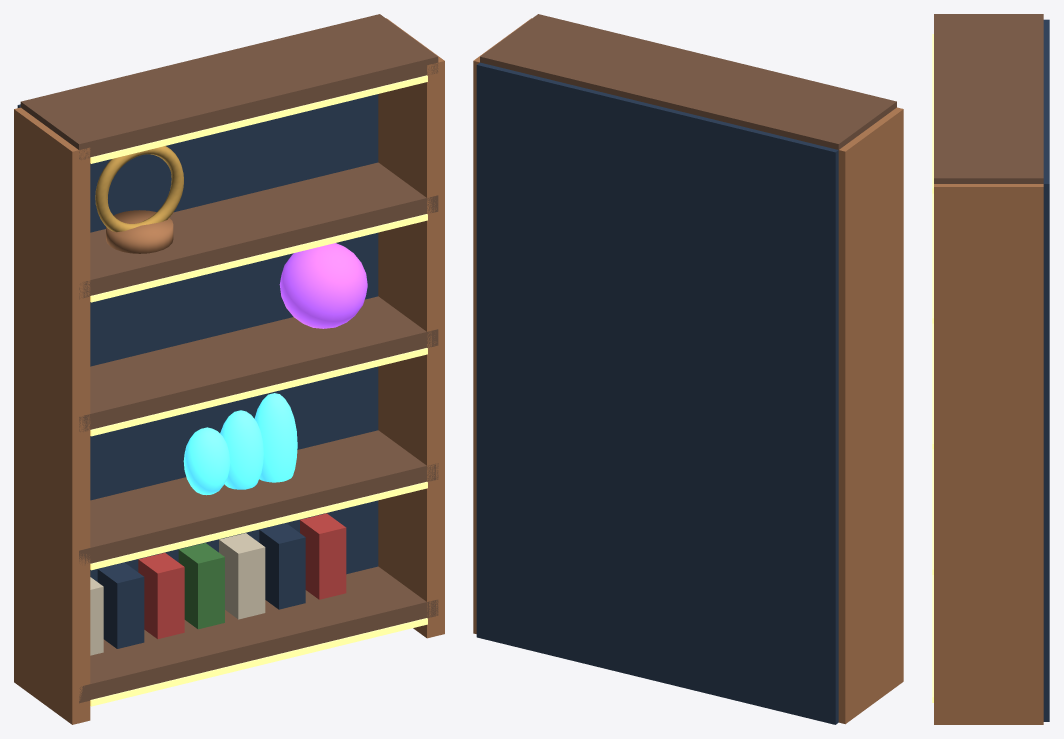
File: display_case.glb
3 views of the same model, side by side, from view 1: azimuth 30°, elevation 25°; view 2: azimuth 150°, elevation 25°; view 3: azimuth 270°, elevation 25° (orthographic). The views are drawn at different scales.
Visible parts, largest first — view 1: root_wood, root_copper, root_navy, root_warm, root_blue, root_red, root_purple, root_cream, root_green, root_gold; view 2: root_navy, root_copper, root_wood; view 3: root_copper, root_wood, root_navy, root_warm.
Part boxes in pixels (bbox=[...]): root_wood: bbox=[20, 14, 438, 703]; root_copper: bbox=[14, 18, 444, 724]; root_navy: bbox=[17, 94, 378, 648]; root_warm: bbox=[90, 75, 427, 706]; root_blue: bbox=[183, 393, 297, 495]; root_red: bbox=[138, 513, 346, 639]; root_purple: bbox=[279, 243, 367, 328]; root_cream: bbox=[90, 533, 265, 655]; root_green: bbox=[178, 543, 224, 629]; root_gold: bbox=[95, 146, 183, 232]; root_navy: bbox=[476, 62, 838, 724]; root_copper: bbox=[473, 18, 903, 724]; root_wood: bbox=[480, 14, 896, 149]; root_copper: bbox=[934, 184, 1043, 724]; root_wood: bbox=[934, 14, 1043, 183]; root_navy: bbox=[1043, 19, 1049, 721]; root_warm: bbox=[932, 34, 933, 702].
Size of the model in its own units: 1.66 by 2.46 by 0.4825.
